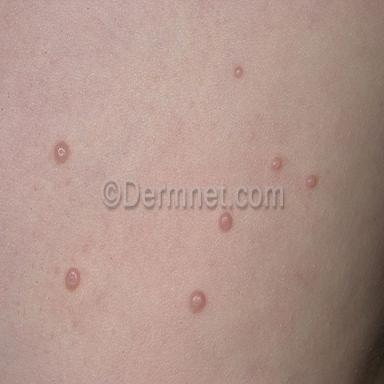Molluscum-Contagiosum: (54, 141, 69, 165), (190, 291, 205, 313), (65, 268, 80, 289), (220, 213, 233, 231), (306, 175, 317, 188), (271, 157, 281, 170), (234, 66, 243, 78)
